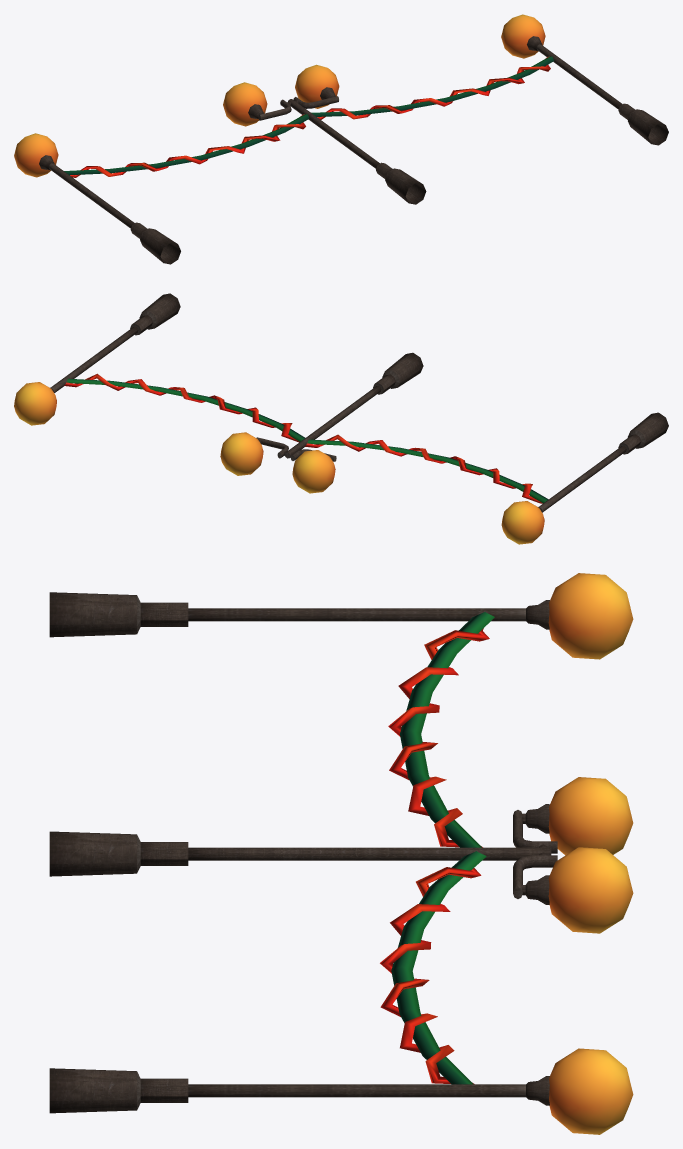
The model's file is StreetLight_Garland_D.fbx.
3 views of the same model, one above another, from view 1: azimuth 30°, elevation 25°; view 2: azimuth 150°, elevation 25°; view 3: azimuth 270°, elevation 25° (orthographic). The views are drawn at different scales.
Parts seen in each view (by area): view 1: StreetLight_Garland_D; view 2: StreetLight_Garland_D; view 3: StreetLight_Garland_D.
Part boxes in pixels (box(x1,y1,x2,y2)): StreetLight_Garland_D: box(14, 14, 668, 264); StreetLight_Garland_D: box(14, 293, 668, 544); StreetLight_Garland_D: box(49, 573, 633, 1134).
Bounding box in the file's own units: 1.57 × 0.1154 × 0.7548.
